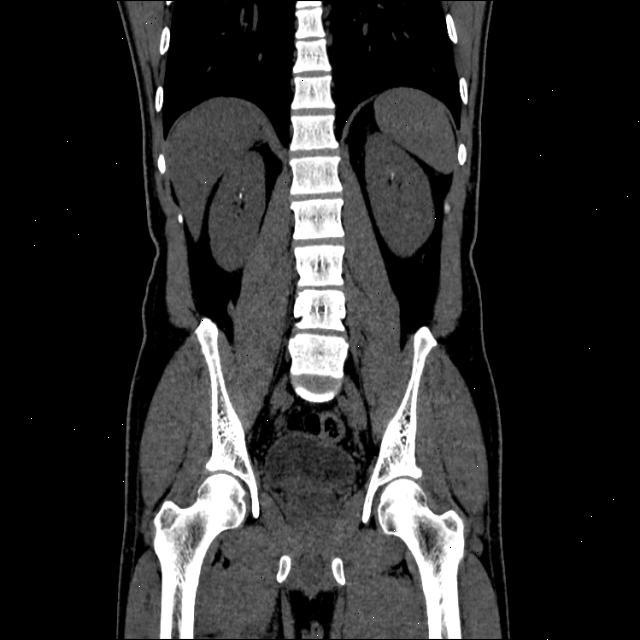kidneystone: (234, 189, 245, 199)
